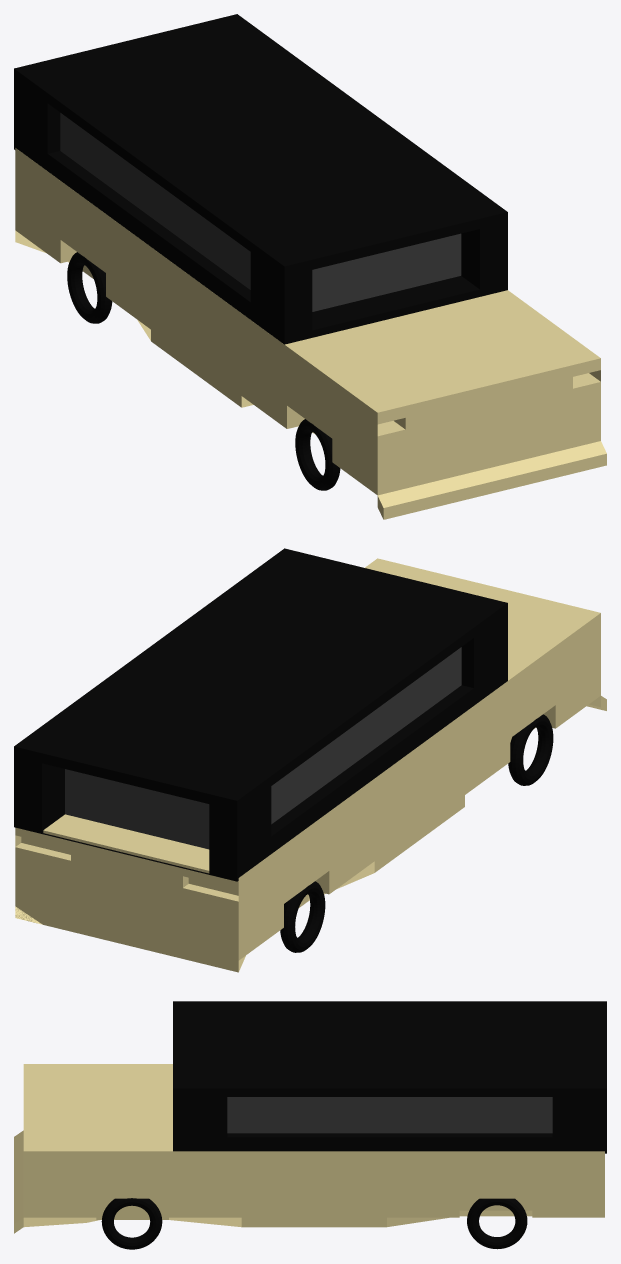
The model's file is hzsnuidzhip.fbx.
3 views of the same model, one above another, from view 1: azimuth 30°, elevation 25°; view 2: azimuth 150°, elevation 25°; view 3: azimuth 270°, elevation 25° (orthographic). The views are drawn at different scales.
Parts seen in each view (by area): view 1: Torus.003, Torus.005, Torus.001; view 2: Torus.003, Torus.001, Torus.005; view 3: Torus.003, Torus.002, Torus.004.
Boxes of the visible parts, x1,y1,x2,y2 form: Torus.003: (14, 14, 606, 519); Torus.005: (67, 252, 112, 323); Torus.001: (295, 419, 340, 490); Torus.003: (14, 548, 606, 972); Torus.001: (508, 714, 553, 785); Torus.005: (280, 881, 325, 952); Torus.003: (14, 1001, 606, 1233); Torus.002: (101, 1198, 162, 1249); Torus.004: (467, 1198, 527, 1249).
Bounding box in the file's own units: 587 × 501 × 1659.
